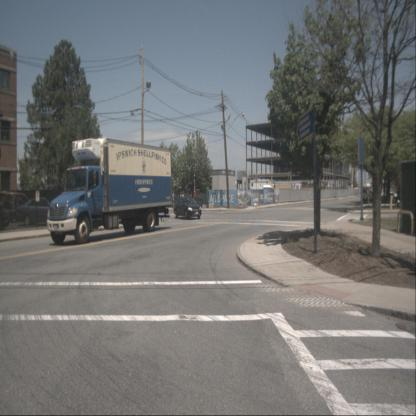human-pedestrian-adult: (172, 191, 175, 209)
vehicle-car: (16, 197, 64, 226), (0, 191, 35, 224), (173, 196, 202, 220)
vehicle-truck: (47, 138, 173, 245)
